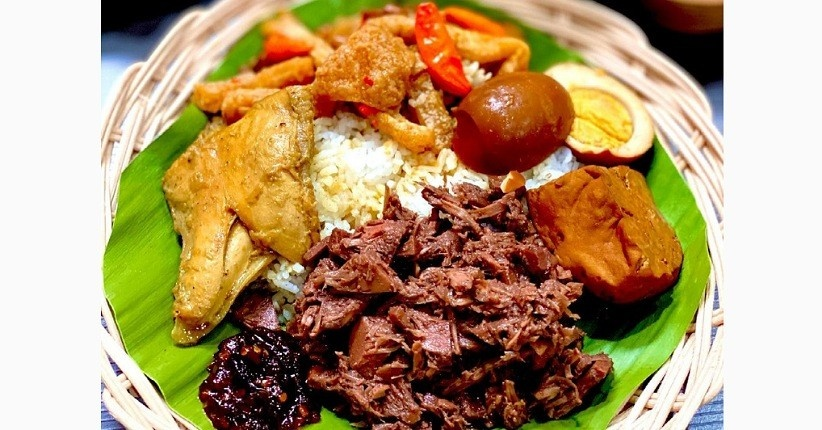gudeg: (159, 32, 650, 406)
